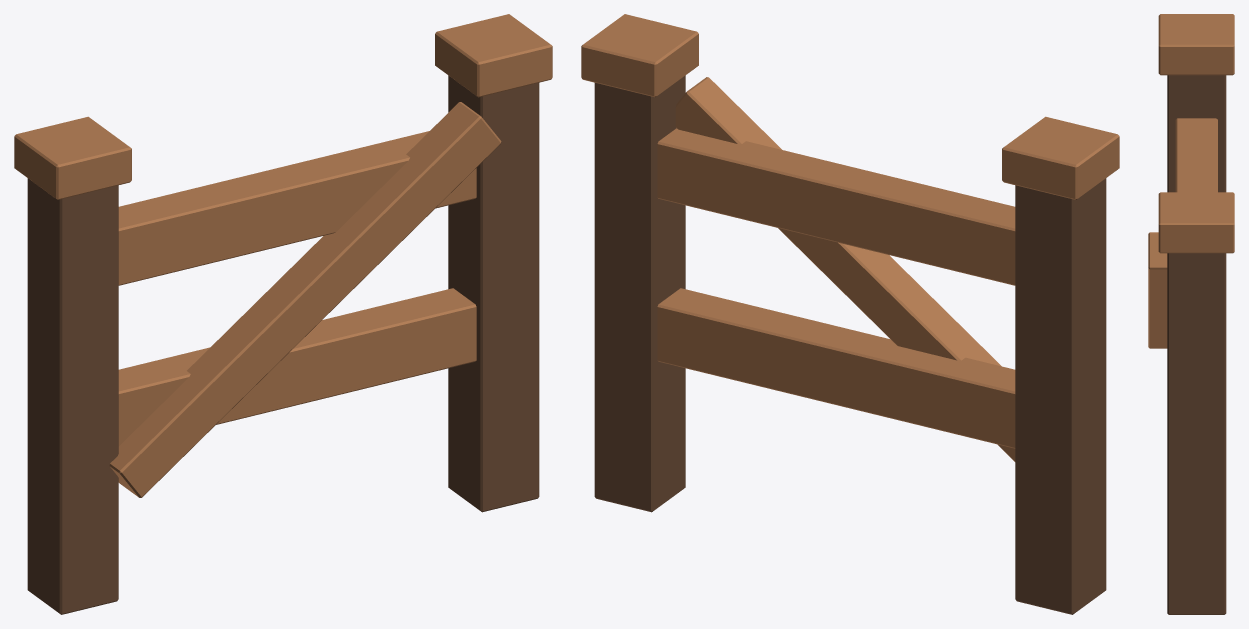
Rendered from wood_fence_straight_02.glb.
3 renders of one model, left to right at view 1: azimuth 30°, elevation 25°; view 2: azimuth 150°, elevation 25°; view 3: azimuth 270°, elevation 25°, orthographic. The views are drawn at different scales.
Parts seen in each view (by area): view 1: wood_fence_straight_02; view 2: wood_fence_straight_02; view 3: wood_fence_straight_02.
Part boxes in pixels (<box>): wood_fence_straight_02: <box>14,14,552,614</box>; wood_fence_straight_02: <box>581,14,1119,614</box>; wood_fence_straight_02: <box>1148,14,1234,614</box>.
Size of the model in its own units: 1.18 by 1.03 by 0.205.
